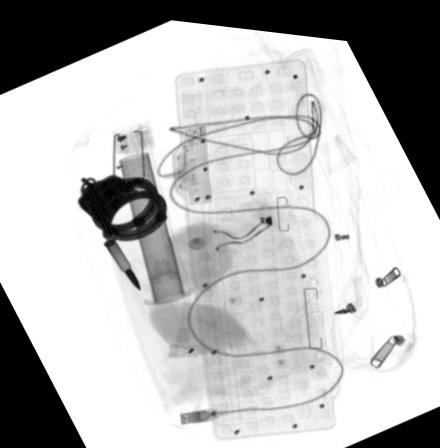Bullet: (101, 235, 143, 287)
HandCuffs: (75, 169, 167, 239)
